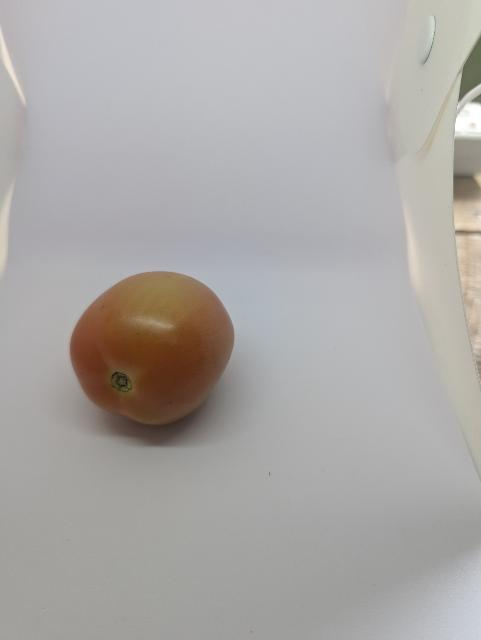turning: (67, 269, 238, 425)
